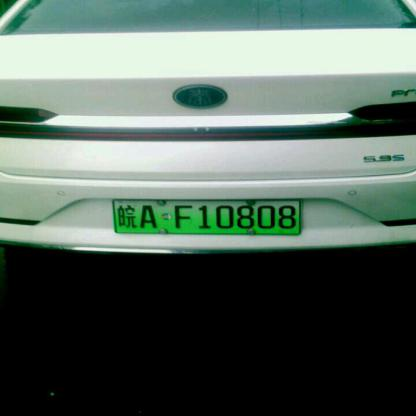lp: (114, 200, 299, 233)
